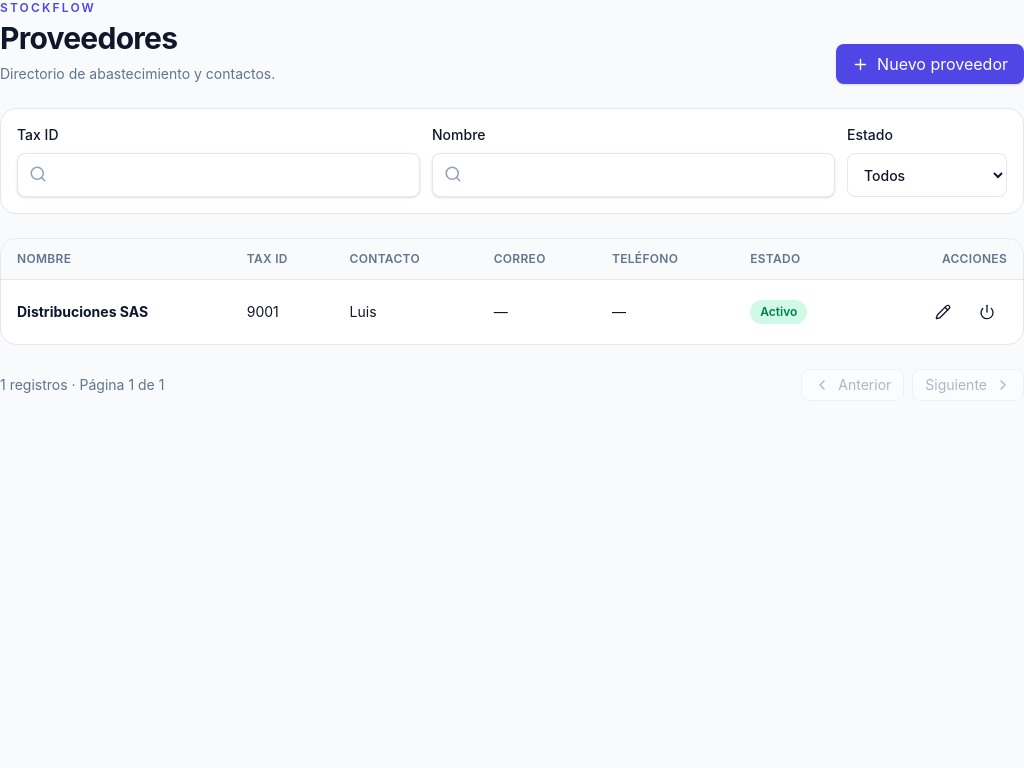
Scenario: SuppliersPage › lista y permite iniciar creación
Expected: the text "Distribuciones SAS" is shown, 17,303 -> 148,320
Click the button "Nuevo proveedor" at (930, 64), box 836,44 -> 1023,84
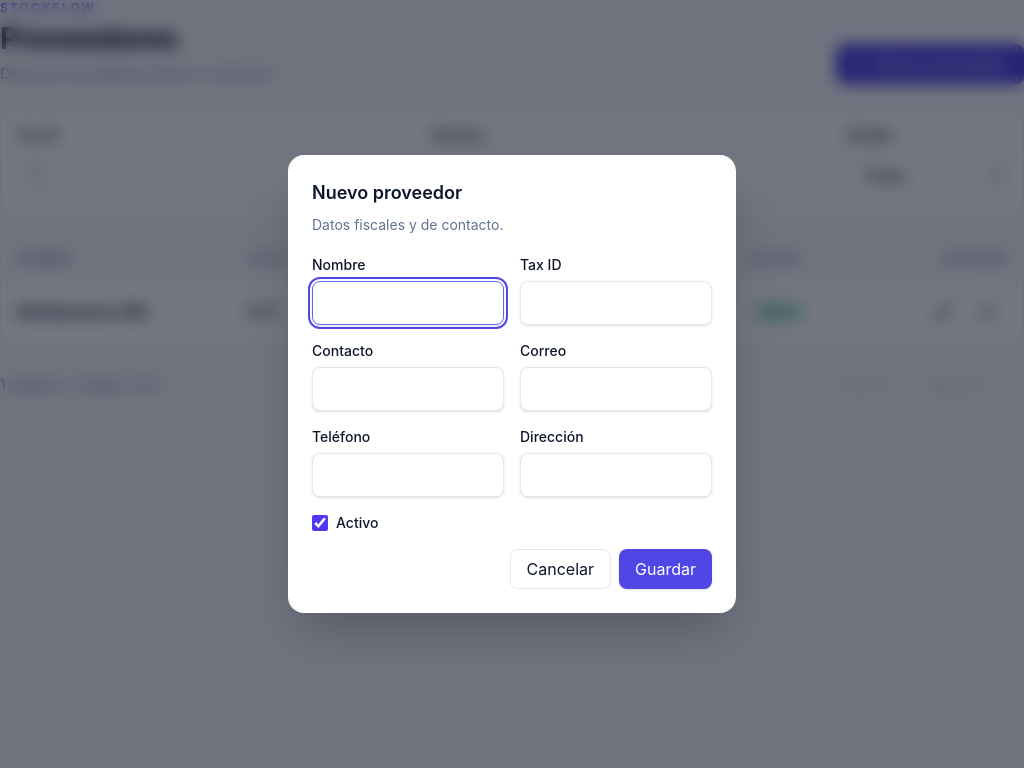
Now the heading "Nuevo proveedor" is shown, box 312,182 -> 462,203
